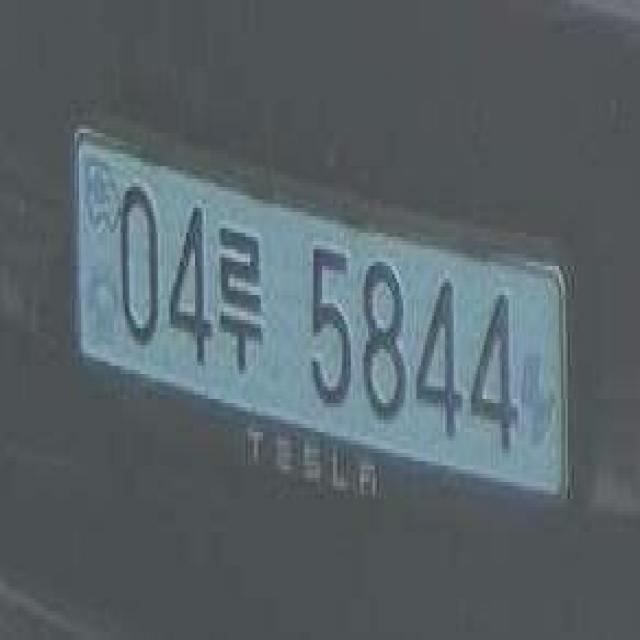EV_plate: (74, 118, 565, 538)
